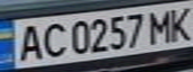0: (66, 17, 90, 56)
2: (87, 15, 112, 53)
5: (106, 12, 130, 52)
7: (124, 10, 151, 47)
A: (12, 21, 45, 62)
C: (36, 20, 69, 60)
K: (163, 2, 193, 42)
M: (145, 6, 178, 44)
